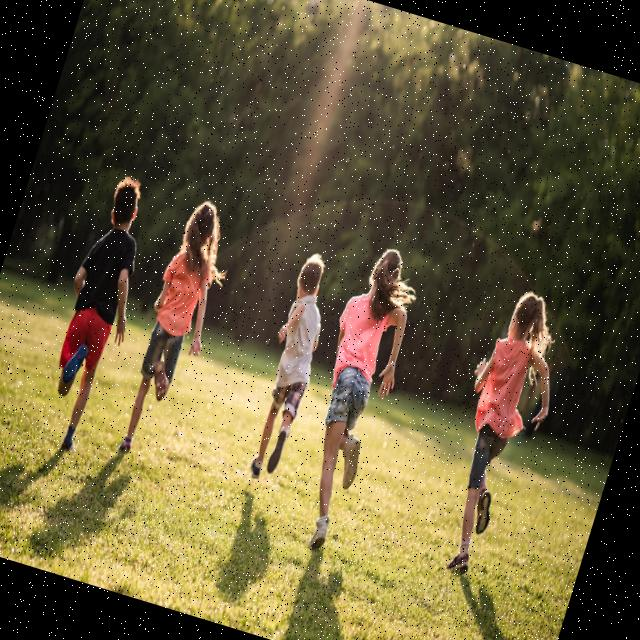Person: (273, 238, 432, 558), (416, 282, 580, 586), (26, 170, 170, 460), (109, 194, 242, 466), (234, 248, 344, 486)
